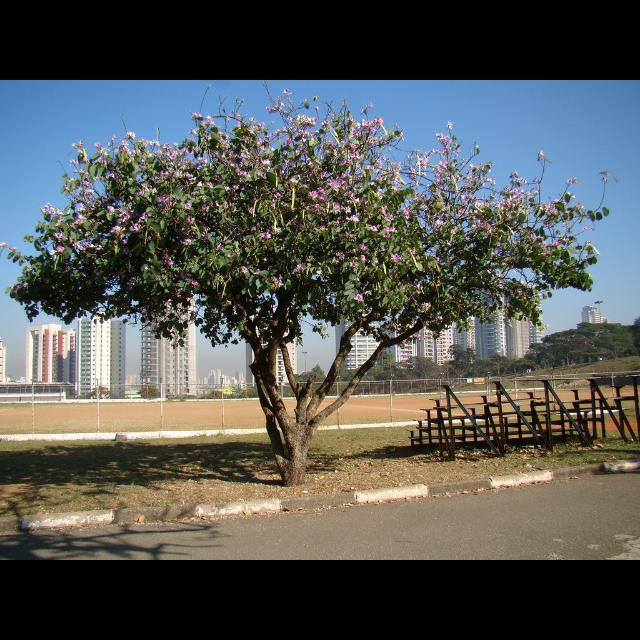Flower: (1, 90, 596, 344)
